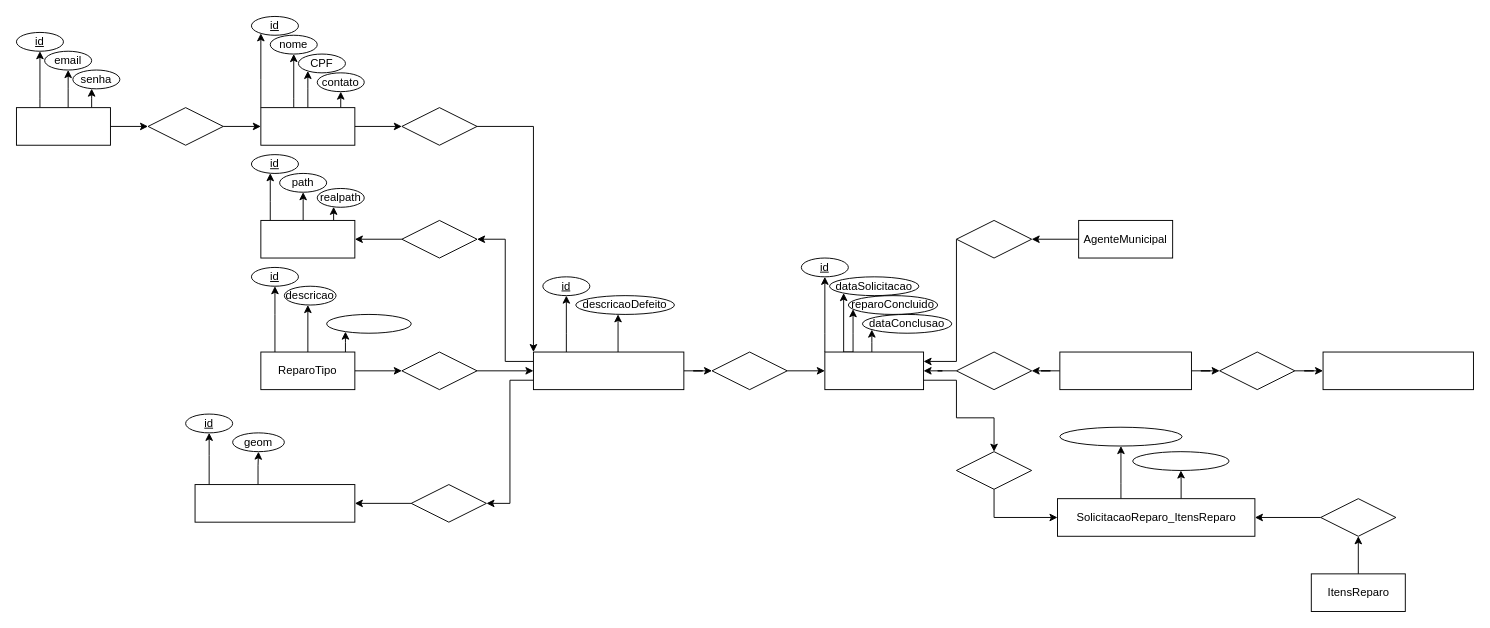
Image size: 1490x628. Some labels were removed from this diagram. The shapes that lost their labels are listed below. From the top down, each one's box as (x1, y1, x2, y2) in pixels, then its label:
(16, 107, 110, 145): CadastroCidadao
(260, 107, 355, 145): Cidadao
(260, 219, 355, 258): CadastroFoto
(326, 313, 411, 333): notaExplicativa
(533, 351, 684, 390): FormularioNotificacao
(824, 351, 924, 390): SolicitacaoReparo
(1059, 351, 1191, 390): EquipeManutencao
(1322, 351, 1473, 390): MembroEquipeManutencao
(1059, 426, 1182, 446): idSolicitacaoReparo
(1132, 451, 1229, 470): idItensReparo
(194, 484, 355, 522): FormularioLocalizacao
